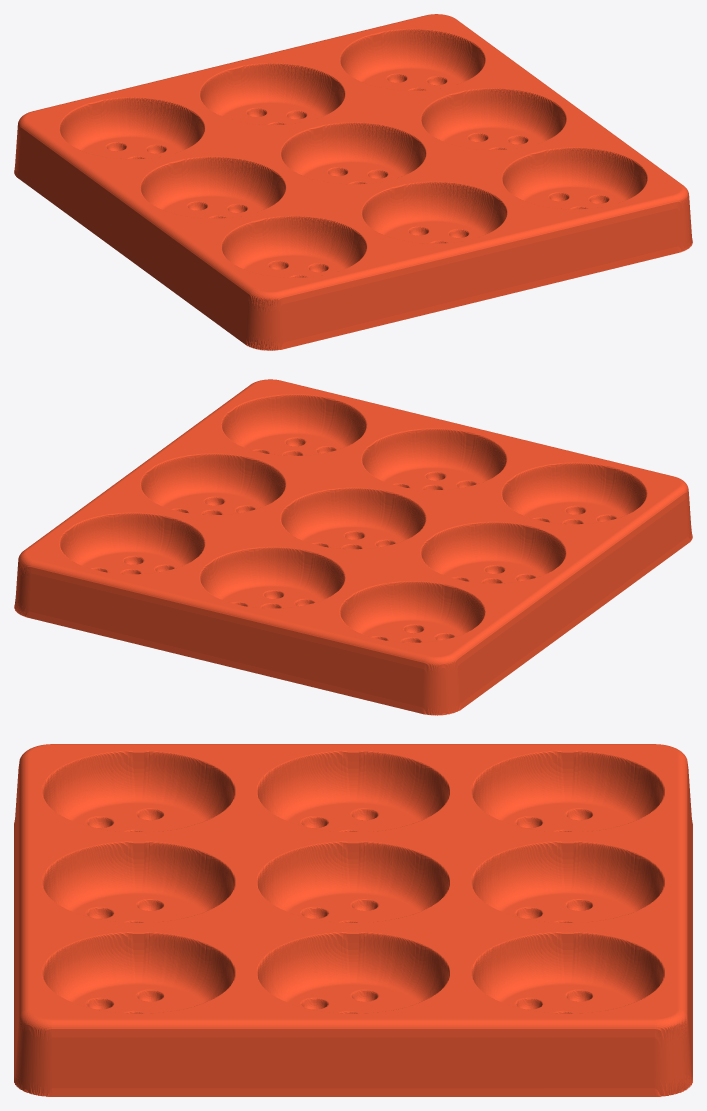
File: mold.glb
3 renders of one model, top to bottom at view 1: azimuth 30°, elevation 25°; view 2: azimuth 150°, elevation 25°; view 3: azimuth 270°, elevation 25°, orthographic. The views are drawn at different scales.
Visible parts, largest first — view 1: geometry_0; view 2: geometry_0; view 3: geometry_0.
Boxes of the visible parts, x1=… form: geometry_0: x1=14, y1=14, x2=692, y2=350; geometry_0: x1=14, y1=379, x2=692, y2=715; geometry_0: x1=14, y1=744, x2=692, y2=1096.
Bounding box in the file's own units: 0.1595 × 0.0185 × 0.1595.
